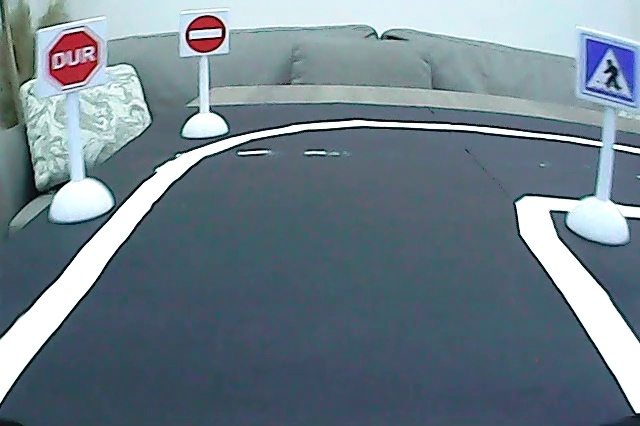do not enter: (182, 14, 228, 57)
pedestrian crossing: (579, 31, 640, 107)
stop sign: (45, 25, 104, 93)
